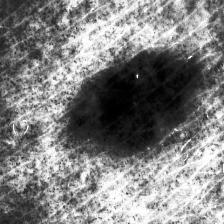Benign Marking or Mole: (72, 44, 207, 150)
